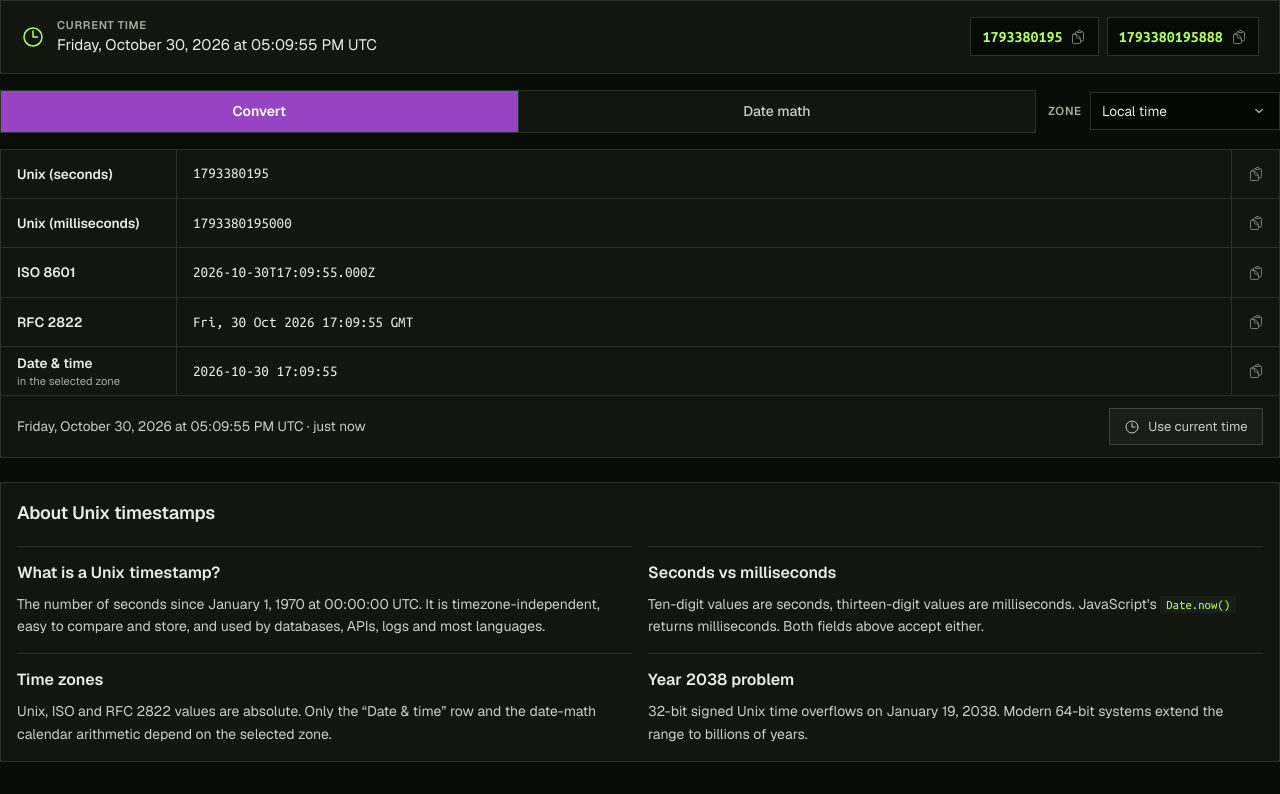
Test: Epoch & time calculator › converts a unix timestamp into the other formats and does date math
Select "UTC" in the dropdown labelled "Zone" at (1185, 111), box [1090,92,1279,130]
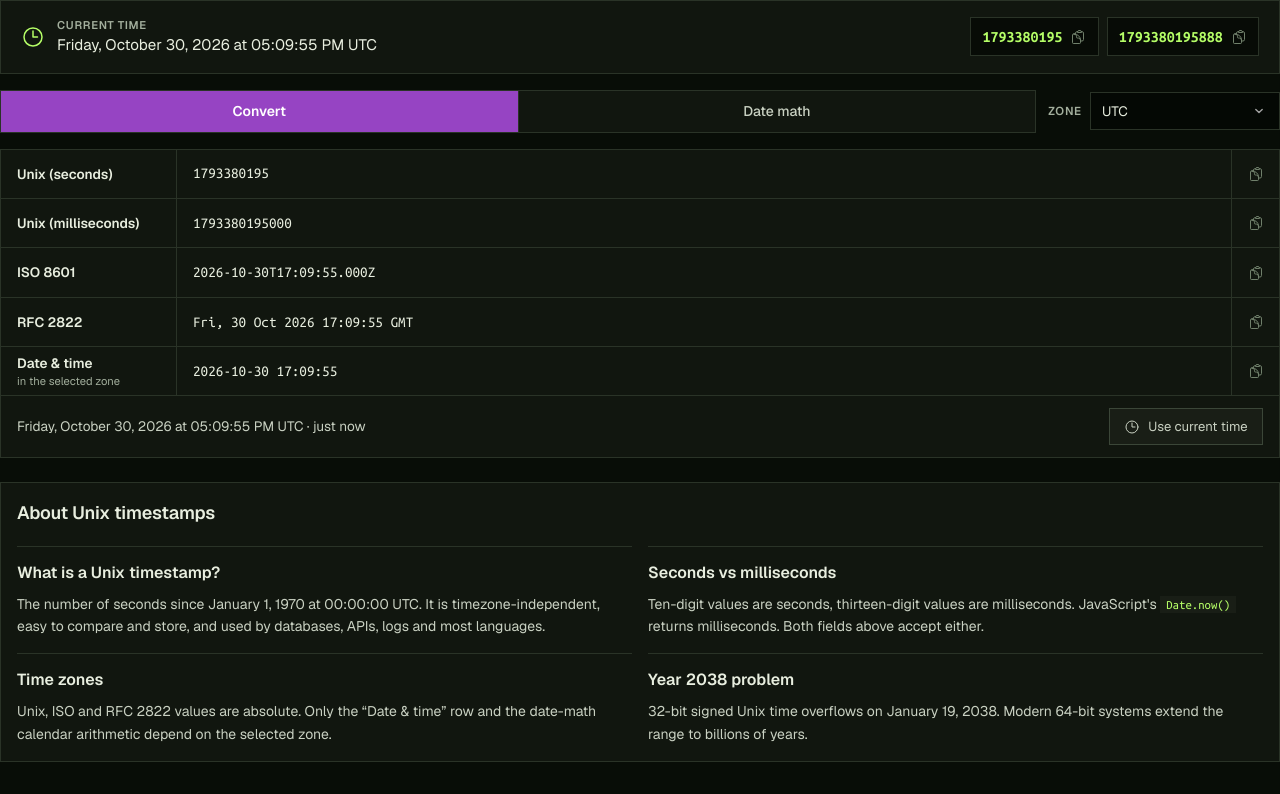
Replace the text in the field labelled "Unix (seconds)" with "1704067200" at (704, 174), box [177,150,1231,198]
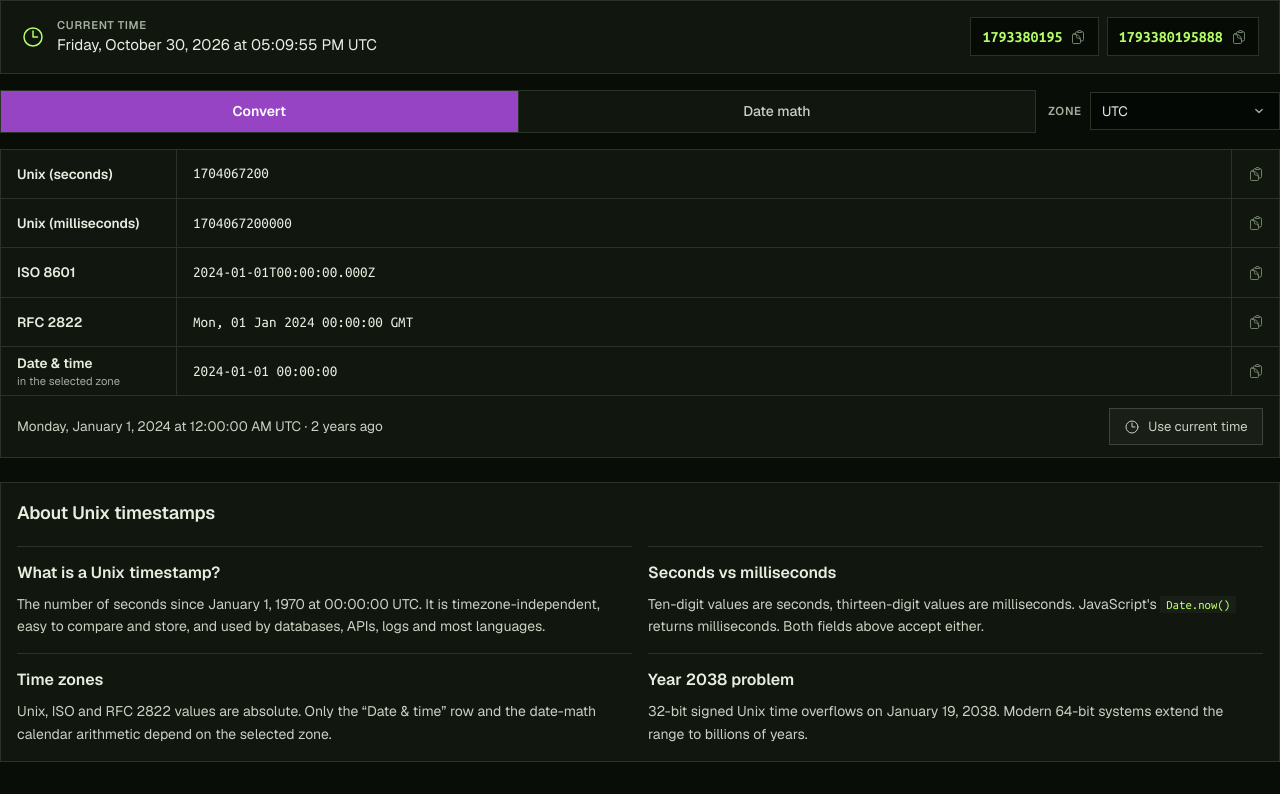
Now the field labelled "ISO 8601" holds "2024-01-01T00:00:00.000Z", box [177,248,1231,297]
Click the radio button labelled "Date math" at (777, 111), box [519,91,1035,132]
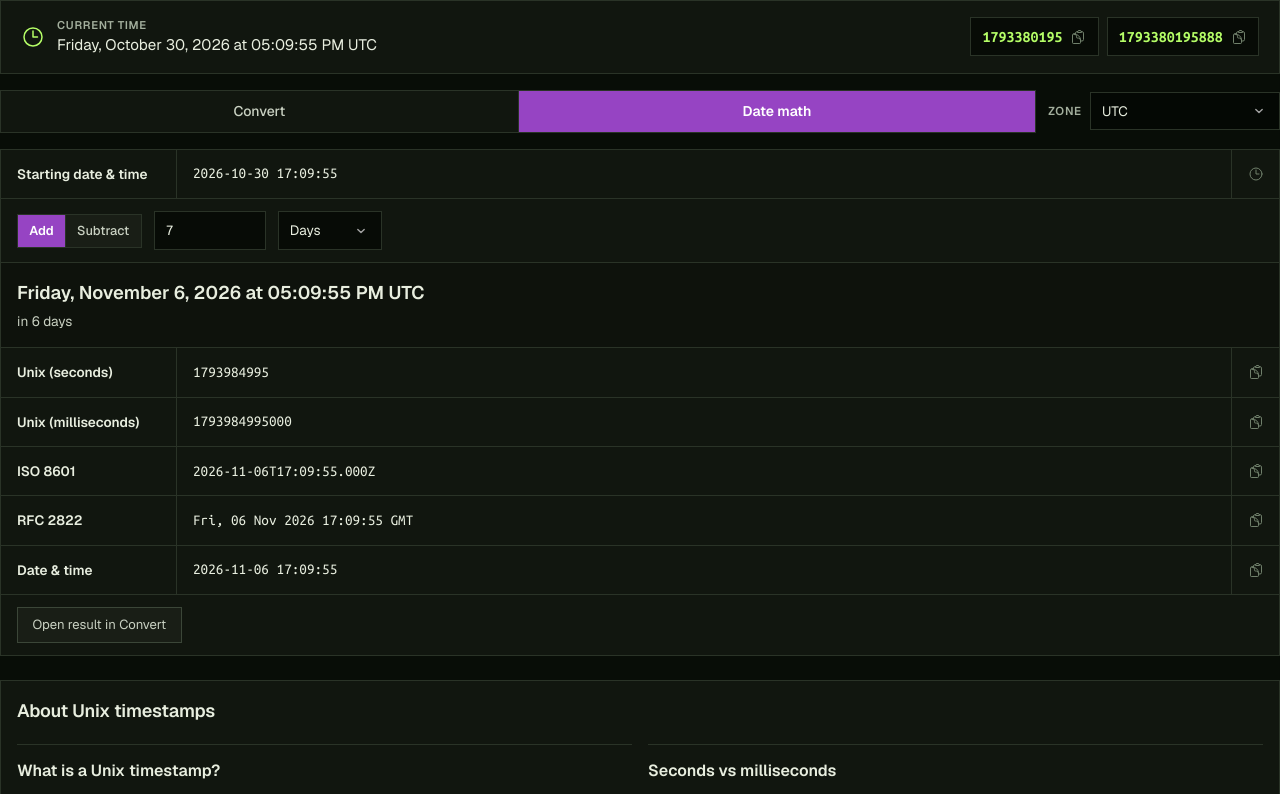
Replace the text in the field labelled "Starting date & time" with "2024-01-01 00:00:00" at (704, 174), box [177,150,1231,198]
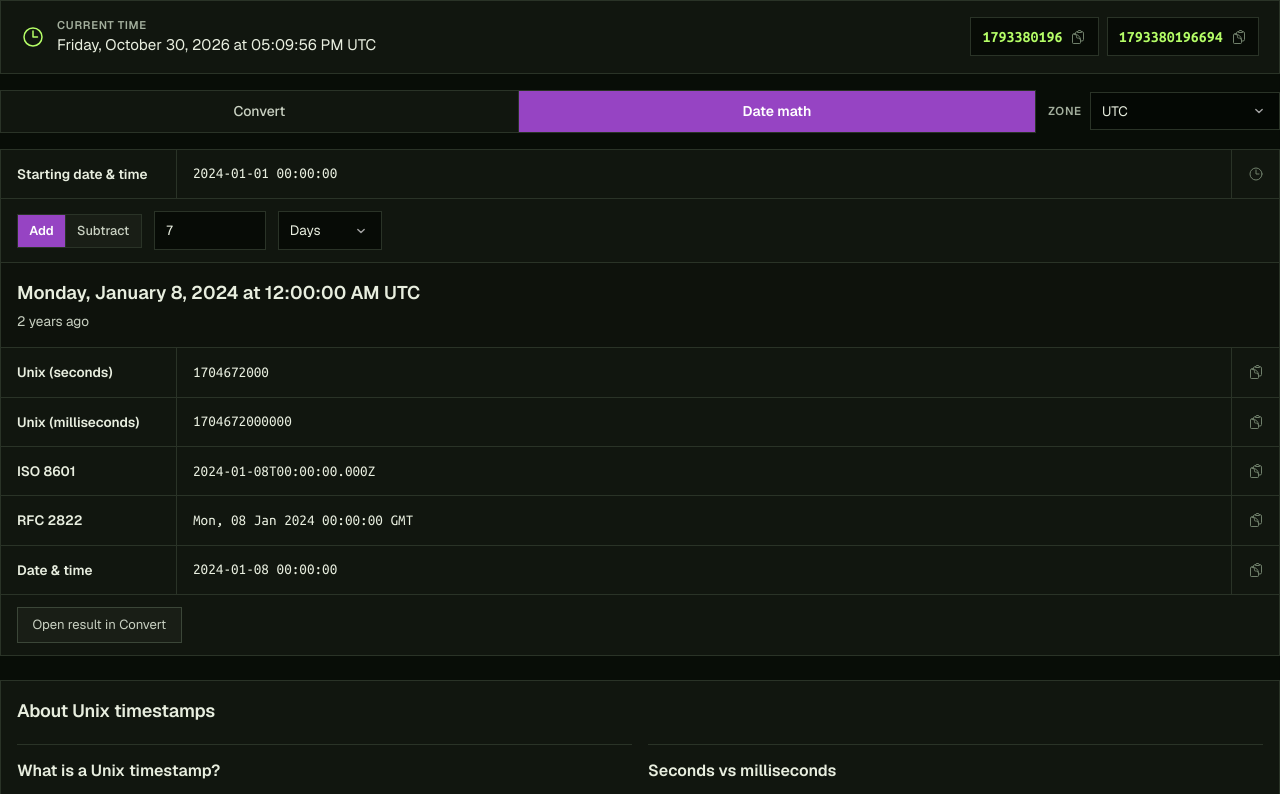
Now the text "2024-01-08T00:00:00.000Z" is shown, box [193,463,375,479]
